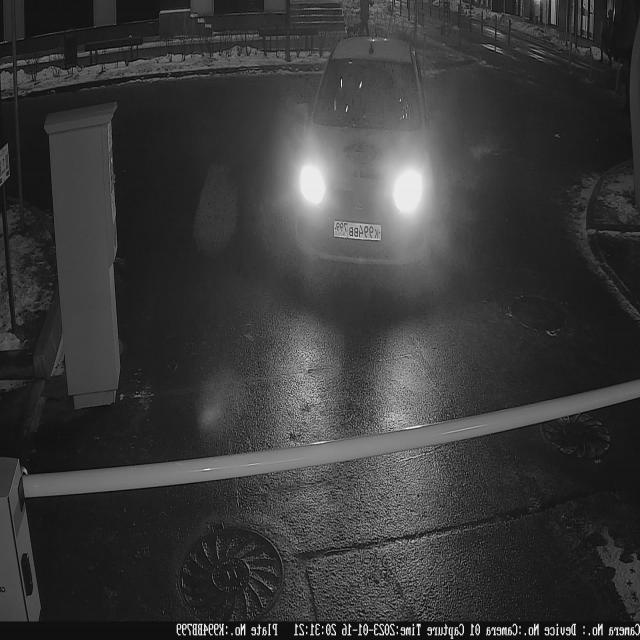car-plate-numbers: (334, 210, 387, 251)
